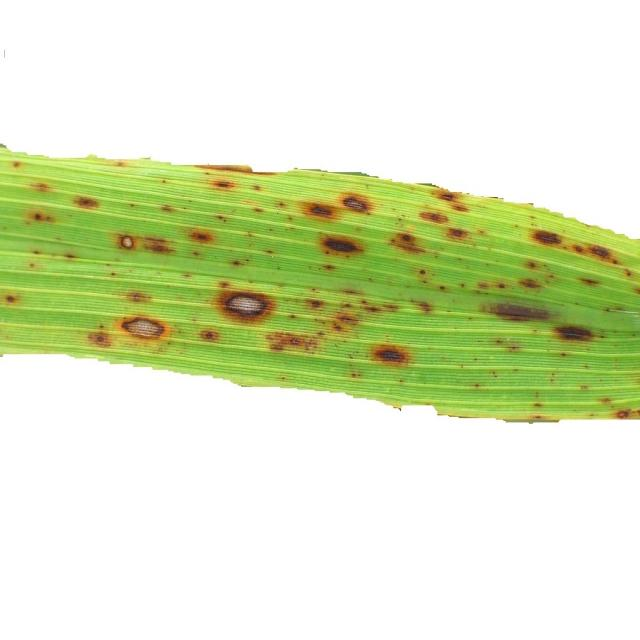Unhealthy: (213, 289, 279, 325), (112, 312, 172, 349), (262, 330, 328, 358), (479, 301, 550, 324), (388, 225, 428, 256), (298, 199, 341, 222), (331, 302, 360, 336), (195, 165, 278, 176), (320, 235, 365, 255), (372, 344, 411, 367), (337, 191, 374, 214), (552, 325, 594, 343), (110, 231, 143, 252), (586, 243, 619, 264), (87, 323, 113, 349), (532, 229, 563, 249), (144, 236, 178, 253), (24, 207, 55, 225), (187, 227, 215, 245), (206, 178, 238, 192), (493, 338, 522, 353), (120, 290, 151, 304), (419, 210, 450, 224), (72, 195, 99, 211), (275, 201, 294, 222), (361, 299, 397, 310), (431, 189, 459, 203), (413, 299, 433, 318), (445, 227, 469, 239), (603, 303, 628, 314), (199, 328, 220, 341), (29, 181, 53, 192), (307, 299, 324, 313), (3, 291, 18, 306), (522, 275, 540, 287), (109, 159, 129, 169), (571, 242, 586, 255), (188, 249, 207, 259), (525, 257, 538, 271), (450, 202, 468, 212), (159, 203, 174, 213), (534, 394, 544, 409), (579, 278, 597, 286), (614, 408, 629, 417), (599, 397, 613, 405), (477, 279, 488, 289), (11, 160, 21, 170), (577, 385, 591, 392), (548, 372, 556, 384), (535, 414, 547, 421), (623, 267, 631, 276), (322, 265, 334, 271), (419, 269, 428, 277), (218, 281, 226, 289), (28, 262, 37, 269), (65, 252, 74, 259), (231, 260, 241, 266), (303, 299, 309, 309), (438, 285, 448, 291), (473, 383, 484, 388), (633, 287, 640, 294), (345, 289, 357, 293), (254, 208, 263, 213), (33, 249, 40, 255), (3, 225, 10, 231), (478, 229, 485, 235), (562, 353, 570, 358), (243, 232, 252, 236), (55, 235, 62, 240), (218, 215, 223, 222), (499, 282, 504, 289), (313, 289, 320, 294), (460, 284, 468, 288), (265, 248, 273, 252), (51, 252, 56, 258), (130, 202, 136, 207), (289, 314, 296, 318), (457, 255, 462, 260), (485, 262, 490, 267), (487, 246, 492, 251), (185, 274, 191, 277), (351, 372, 355, 376), (110, 273, 115, 276), (162, 179, 165, 184), (269, 228, 273, 231), (245, 259, 249, 261)
